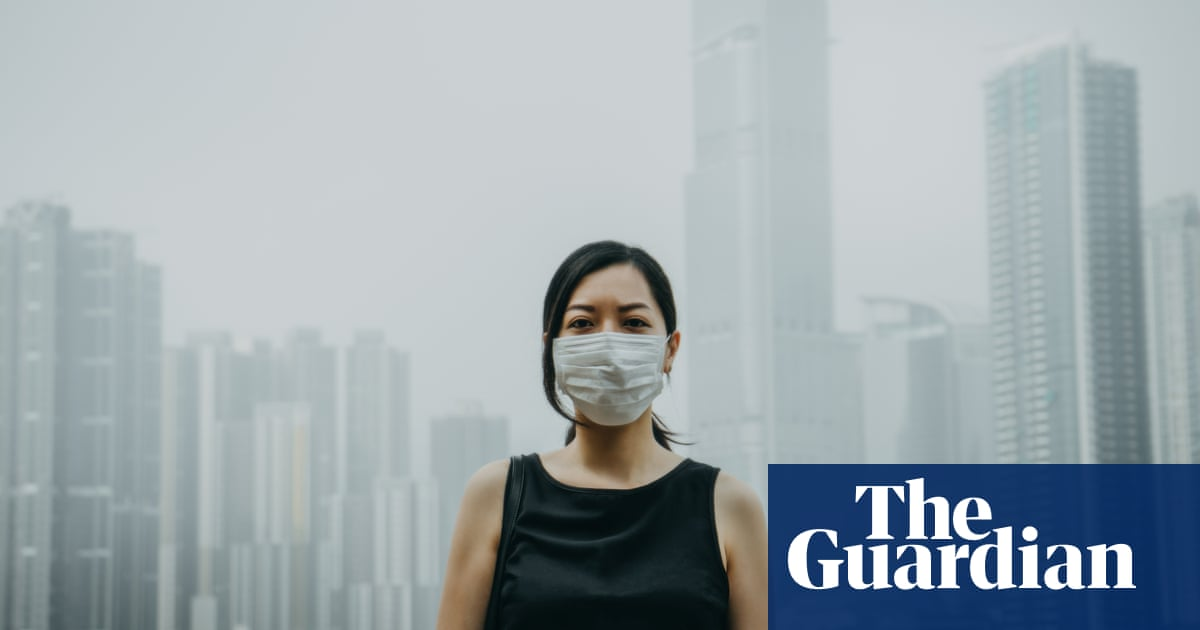surgical: (542, 328, 681, 437)
